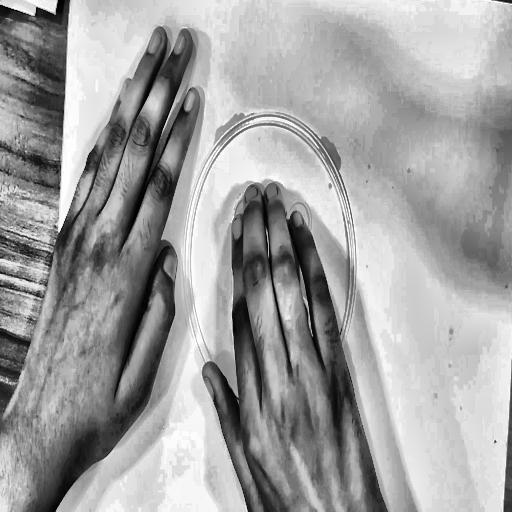button: (160, 85, 378, 463)
